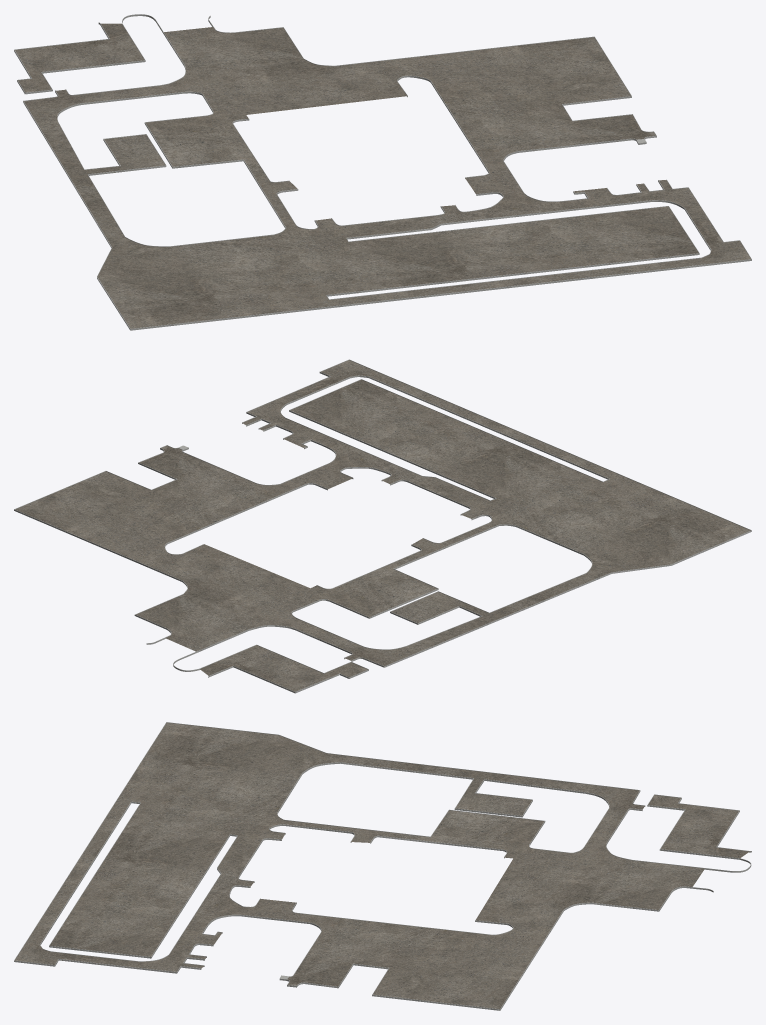
File: road_p05_01.fbx
The picture shows the model from 3 angles, top to bottom: view 1: azimuth 30°, elevation 25°; view 2: azimuth 150°, elevation 25°; view 3: azimuth 270°, elevation 25°; orthographic projection. The views are drawn at different scales.
Visible parts, largest first — view 1: road_p05_01; view 2: road_p05_01; view 3: road_p05_01.
Boxes of the visible parts, x1,y1,x2,y2 form: road_p05_01: (14, 14, 751, 330); road_p05_01: (14, 359, 751, 693); road_p05_01: (14, 722, 751, 1010).
Bounding box in the file's own units: 29394 × 69.99 × 31902.
